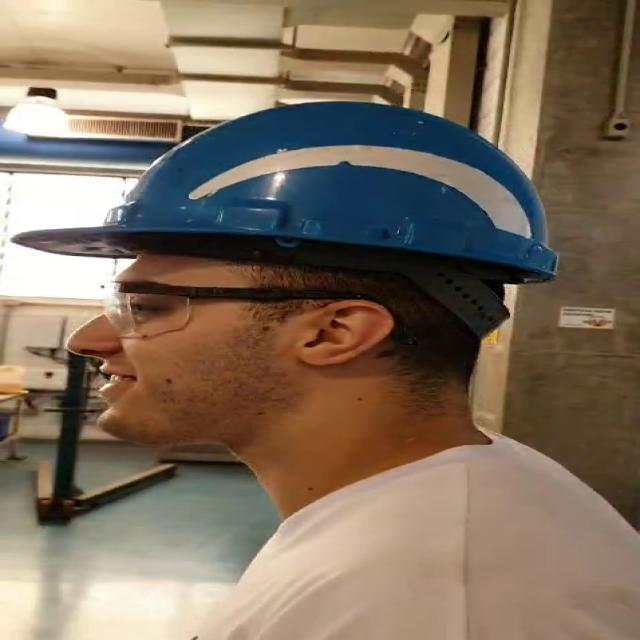oculos-epi: (103, 282, 374, 339)
